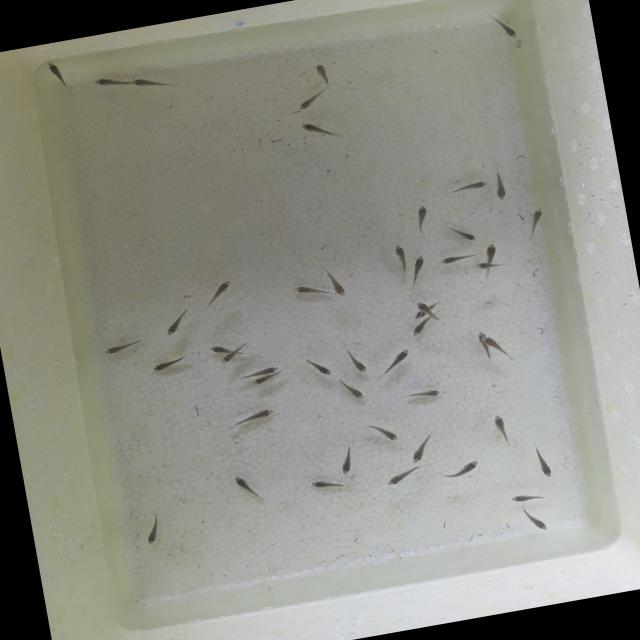fingerling: (375, 347, 414, 380), (41, 57, 74, 94), (520, 503, 550, 536), (200, 278, 235, 306), (132, 71, 174, 92), (407, 434, 436, 464), (530, 444, 554, 480), (160, 310, 190, 338), (234, 406, 276, 426), (366, 421, 399, 446), (299, 116, 333, 140), (139, 516, 165, 547), (150, 354, 190, 374), (402, 385, 444, 404), (327, 264, 349, 300), (230, 472, 258, 500), (446, 221, 477, 246), (245, 370, 288, 388), (493, 15, 521, 42), (90, 71, 132, 89), (304, 356, 334, 381), (404, 318, 436, 341), (383, 468, 419, 488), (508, 488, 548, 506), (99, 338, 139, 356), (290, 280, 322, 302), (346, 349, 371, 377), (340, 379, 368, 404), (490, 171, 511, 204), (244, 361, 282, 379), (526, 204, 548, 235), (293, 90, 324, 112), (492, 410, 512, 444), (411, 252, 434, 281), (335, 445, 357, 475), (308, 474, 344, 492), (412, 201, 434, 230), (454, 176, 488, 194), (438, 250, 468, 268), (452, 458, 481, 476), (312, 60, 332, 84), (392, 242, 409, 270), (204, 340, 230, 358), (472, 258, 498, 272), (480, 241, 500, 257), (218, 352, 238, 367), (412, 298, 430, 312), (480, 333, 495, 347)
